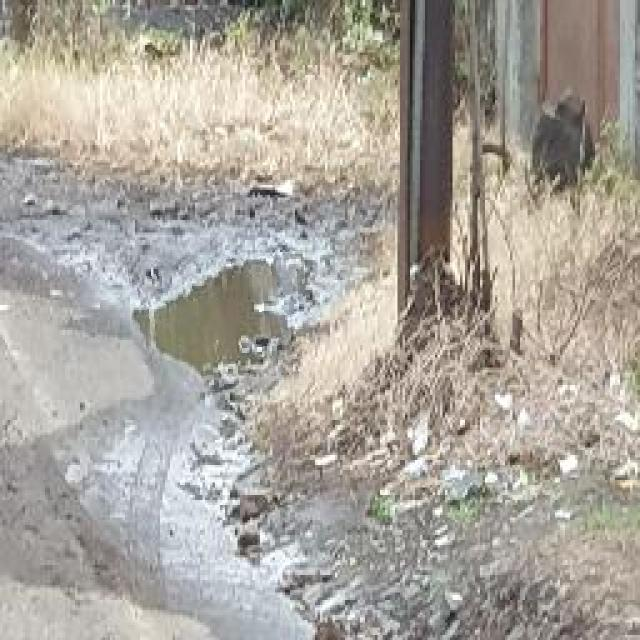puddle: (131, 255, 311, 395)
